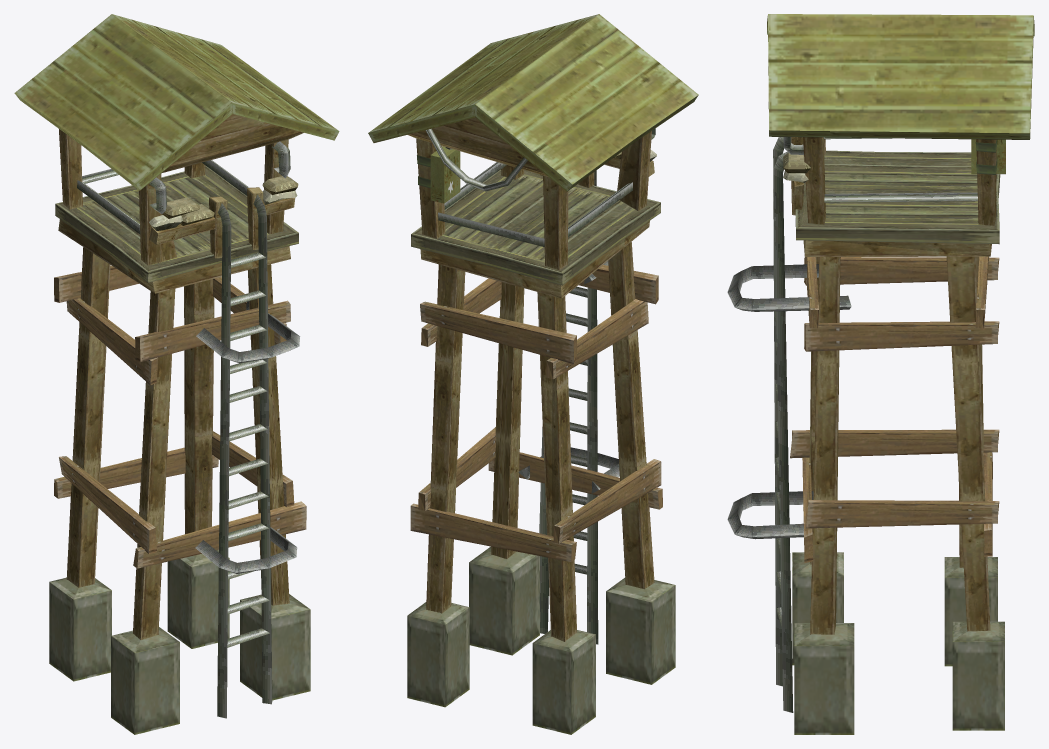
The model's file is C1SMWATCHTOWERBH.obj.
3 views of the same model, side by side, from view 1: azimuth 30°, elevation 25°; view 2: azimuth 150°, elevation 25°; view 3: azimuth 270°, elevation 25° (orthographic). The views are drawn at different scales.
Parts seen in each view (by area): view 1: Node 0; view 2: Node 0; view 3: Node 0.
Boxes of the visible parts, bbox=[...] form: Node 0: bbox=[14, 14, 339, 734]; Node 0: bbox=[368, 14, 698, 734]; Node 0: bbox=[727, 14, 1034, 734].
Size of the model in its own units: 7.13 by 20.35 by 8.41.
Materials: 8 (8 with a texture image).
